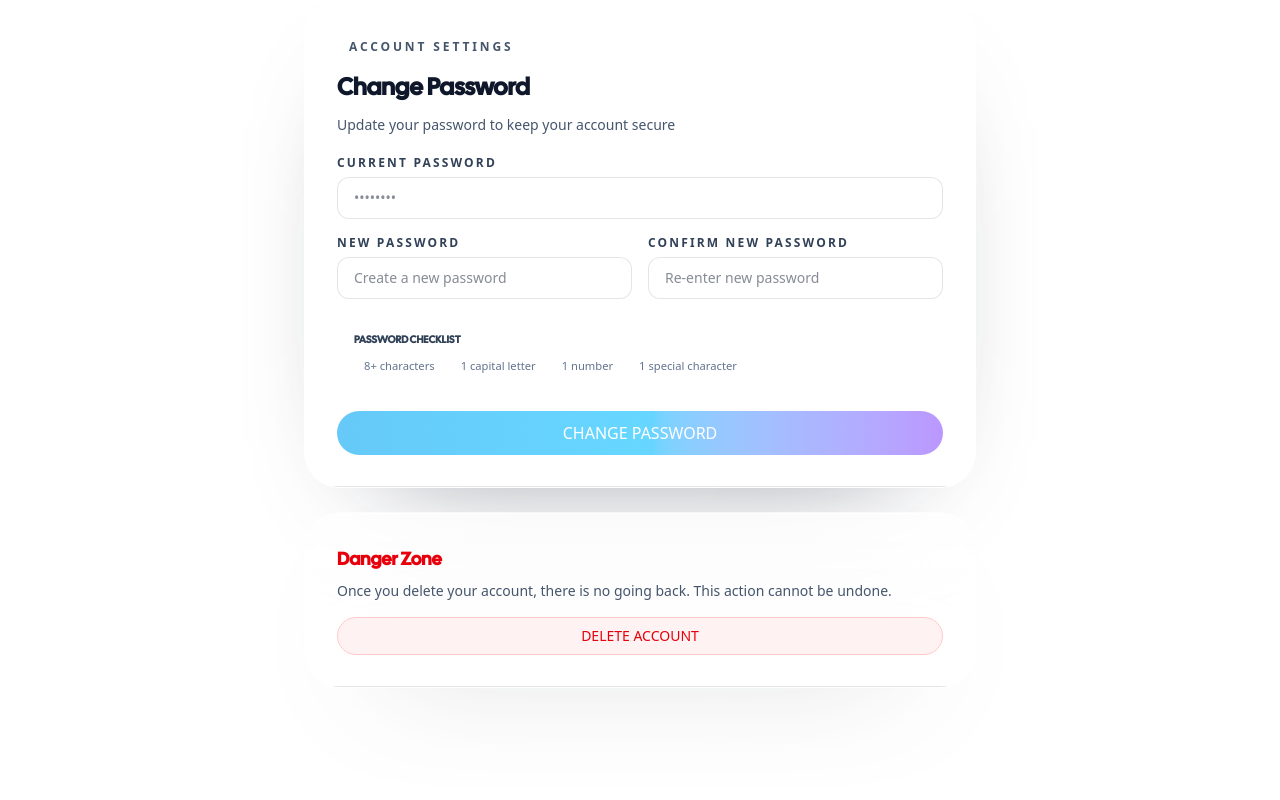
Test: SettingsPage - Account Deletion › Modal behavior › opens modal when delete account button clicked
The image size is (1280, 800).
Step 1. Click the button "Delete Account" → (640, 636), box [337, 617, 943, 655]
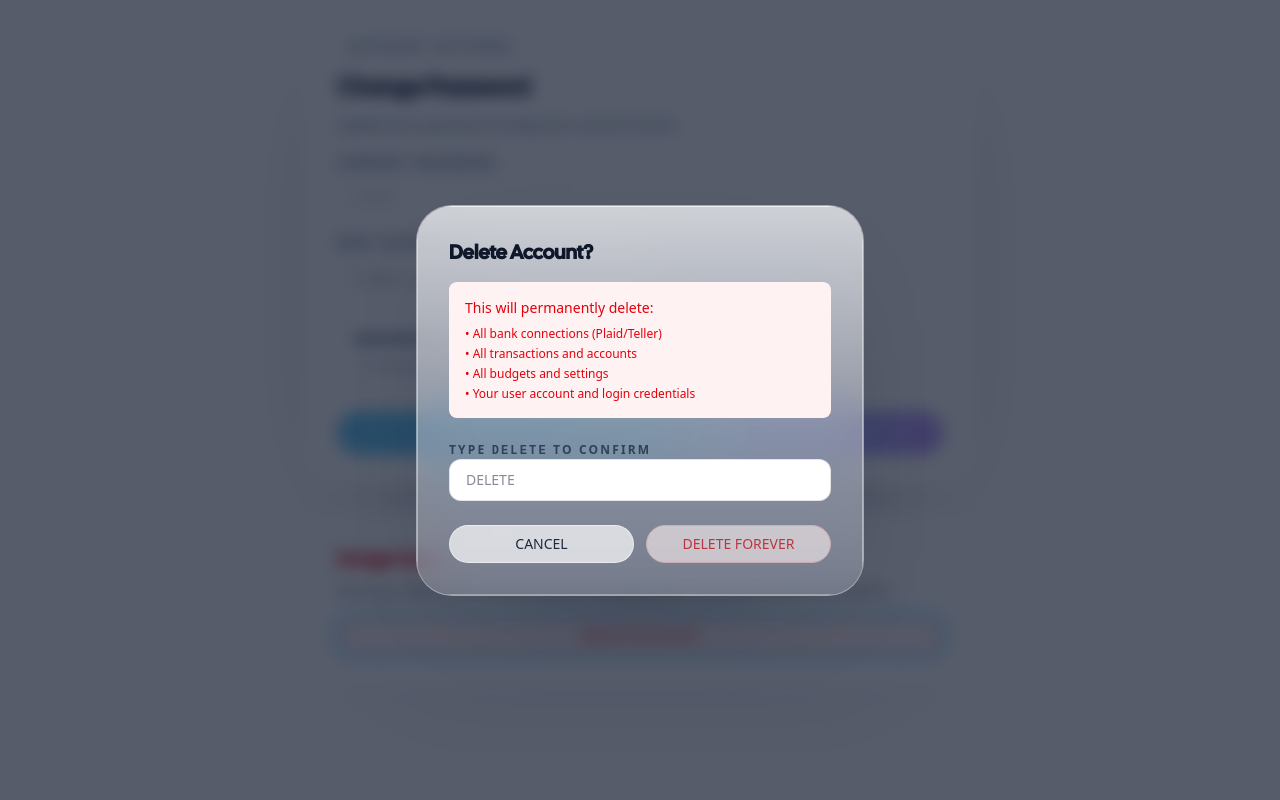
Now the heading "Delete Account?" is shown, box [449, 238, 594, 264]
